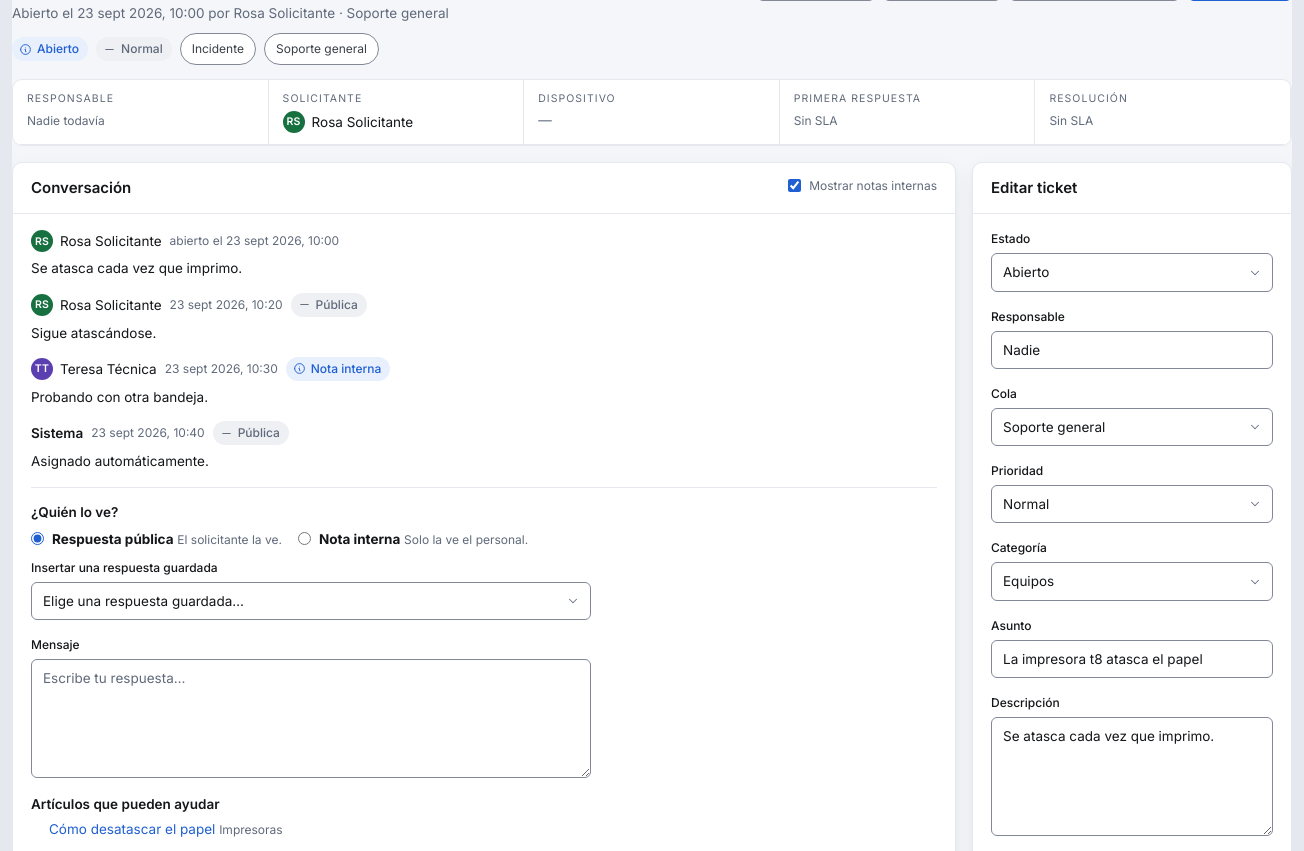
a ticket's page in Spanish › words a reply that failed to send, with the server's reason as the server wrote it
Type "Ya está arreglado" into the text box with placeholder "Escribe tu respuesta…" at coordinates (311, 719), box [31,659,591,778]
(page scrolled)
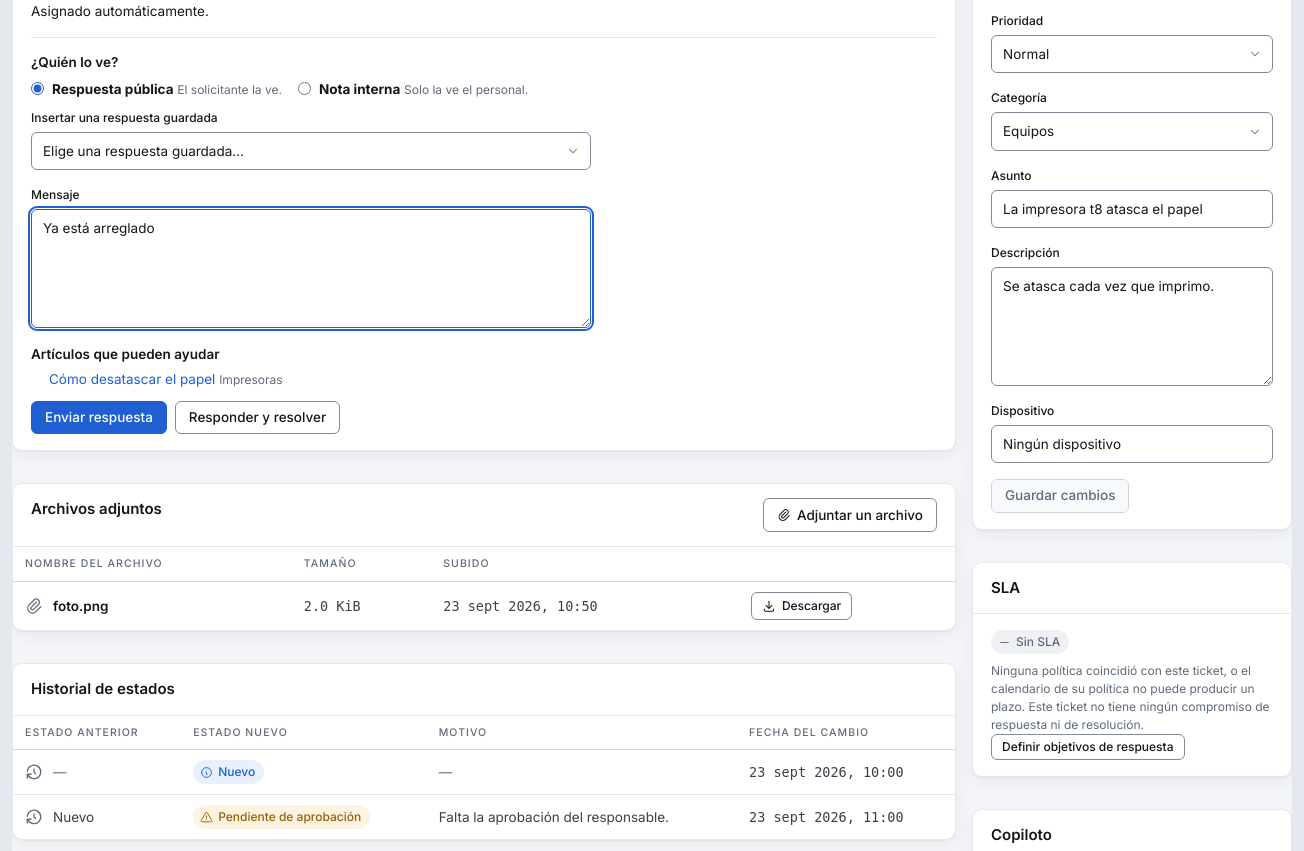
Click the button "Responder y resolver" at coordinates (258, 418), box [175,401,340,434]
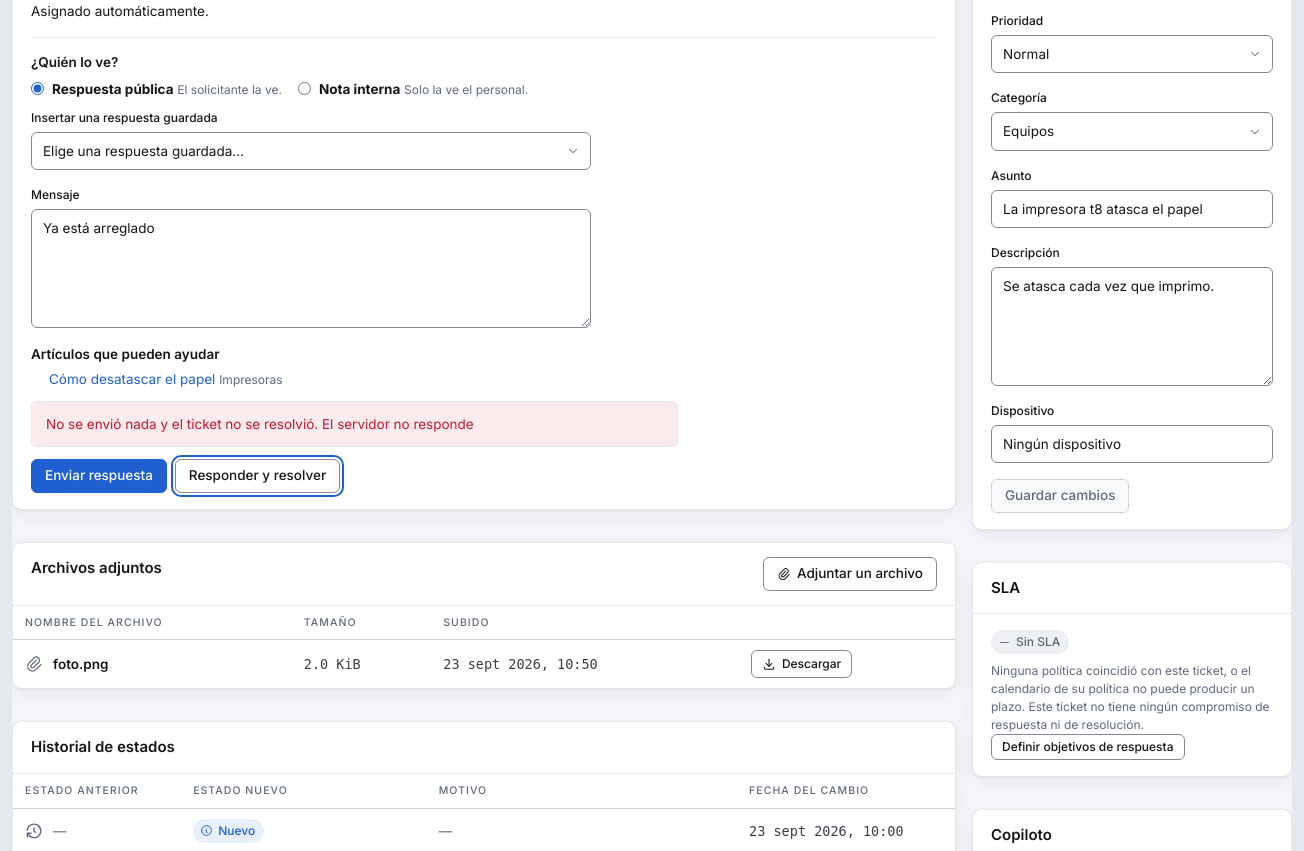
Now the text "No se envió nada y el ticket no se resolvió. El servidor no responde" is shown, box [31,401,678,447]
